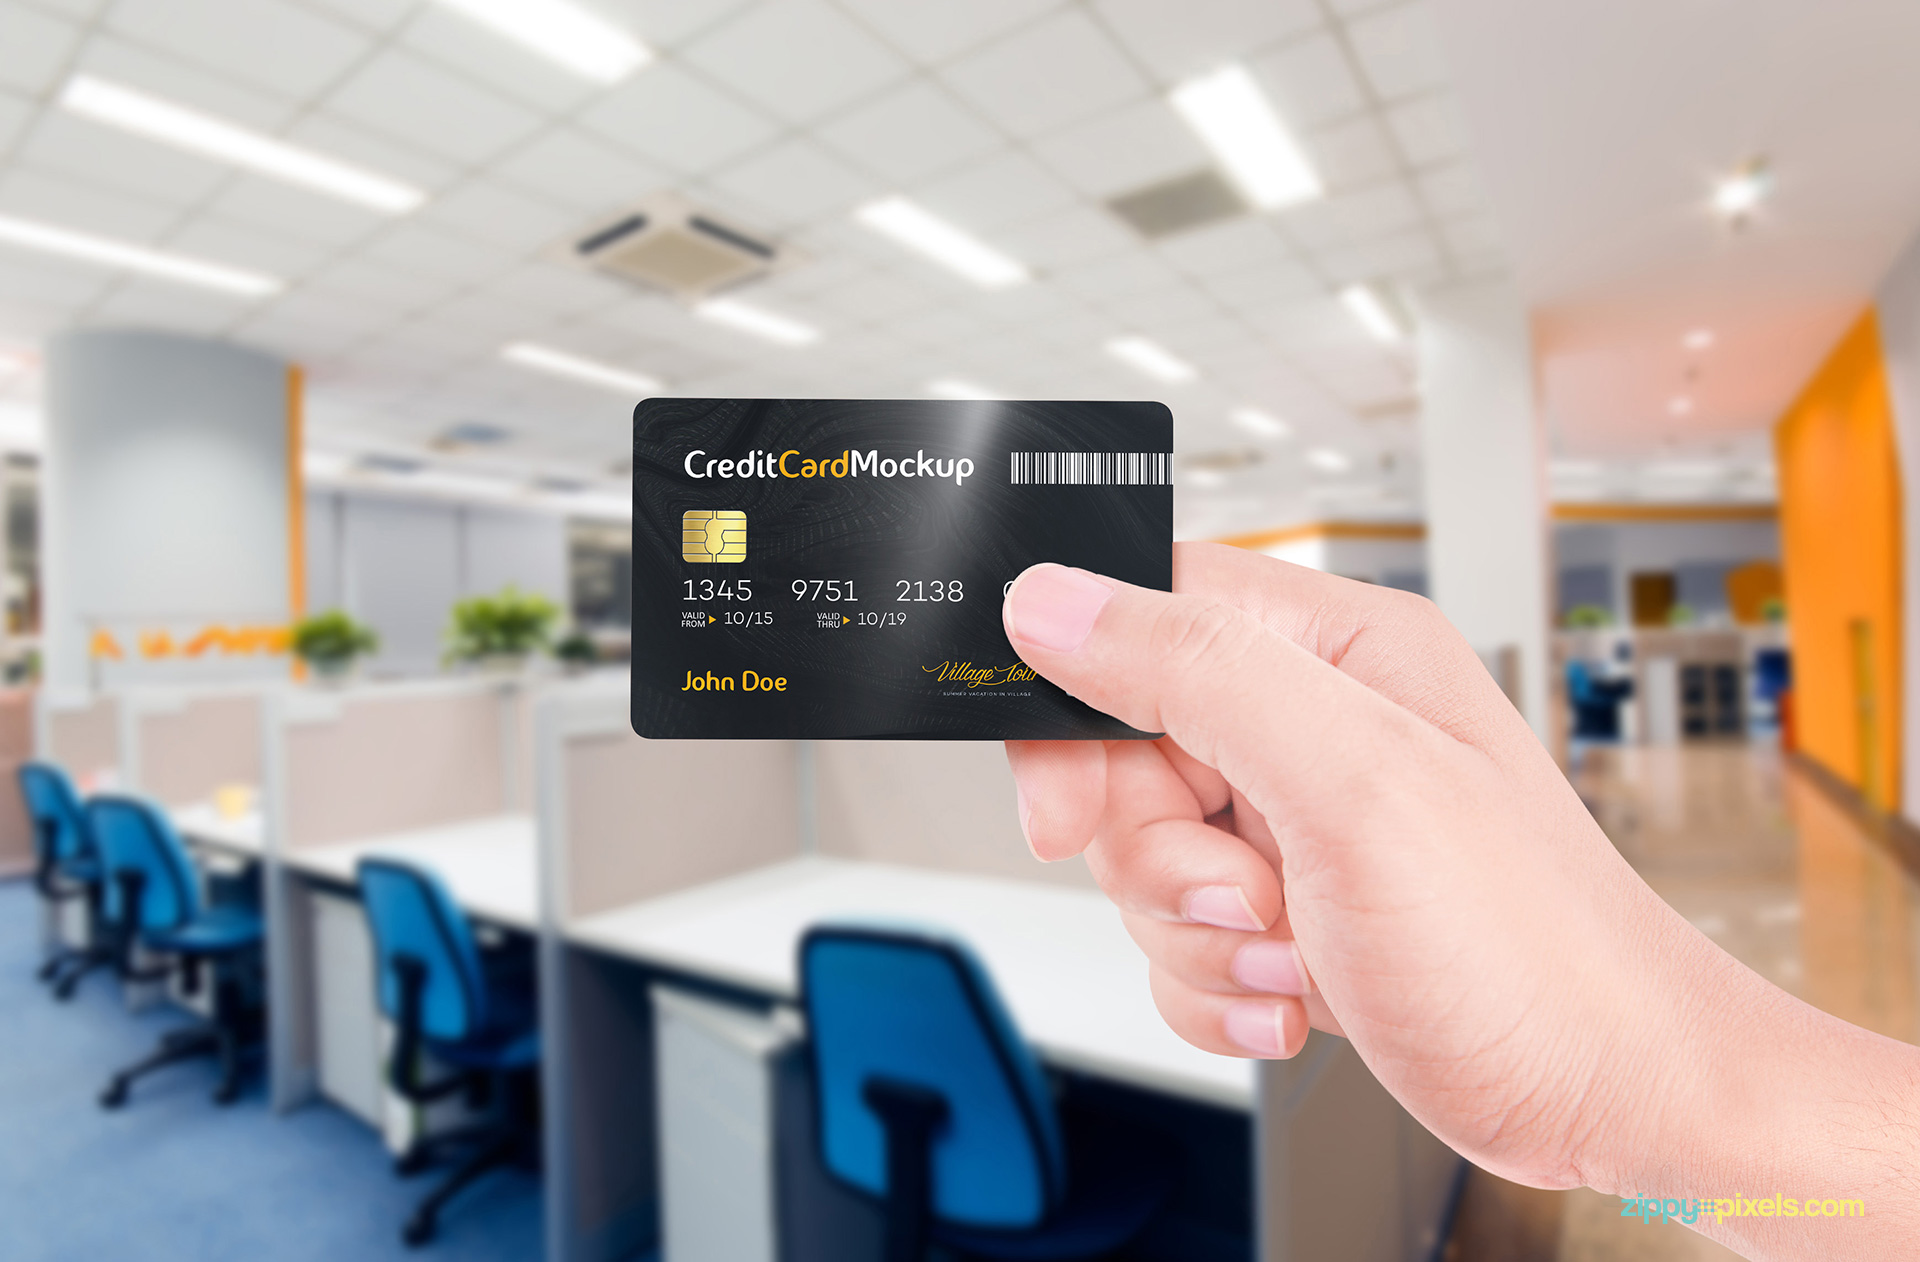tarjeta: (627, 393, 1178, 745)
